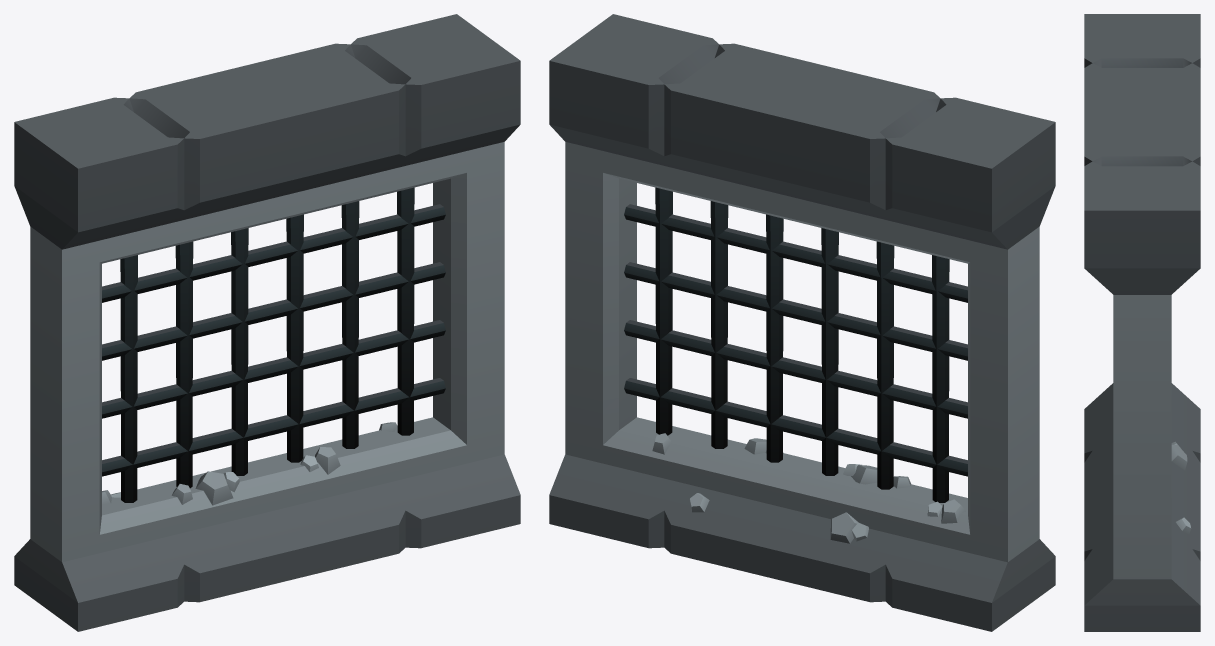
File: wall_gated.glb
The picture shows the model from 3 angles, left to right: view 1: azimuth 30°, elevation 25°; view 2: azimuth 150°, elevation 25°; view 3: azimuth 270°, elevation 25°; orthographic projection. The views are drawn at different scales.
Parts seen in each view (by area): view 1: wall_gated; view 2: wall_gated; view 3: wall_gated.
Boxes of the visible parts, left/top/right/bottom form: wall_gated: left=14, top=14, right=520, bottom=631; wall_gated: left=549, top=14, right=1055, bottom=631; wall_gated: left=1084, top=14, right=1200, bottom=631.
Size of the model in its own units: 2 by 2 by 0.5.
1 material, 1 textured.
